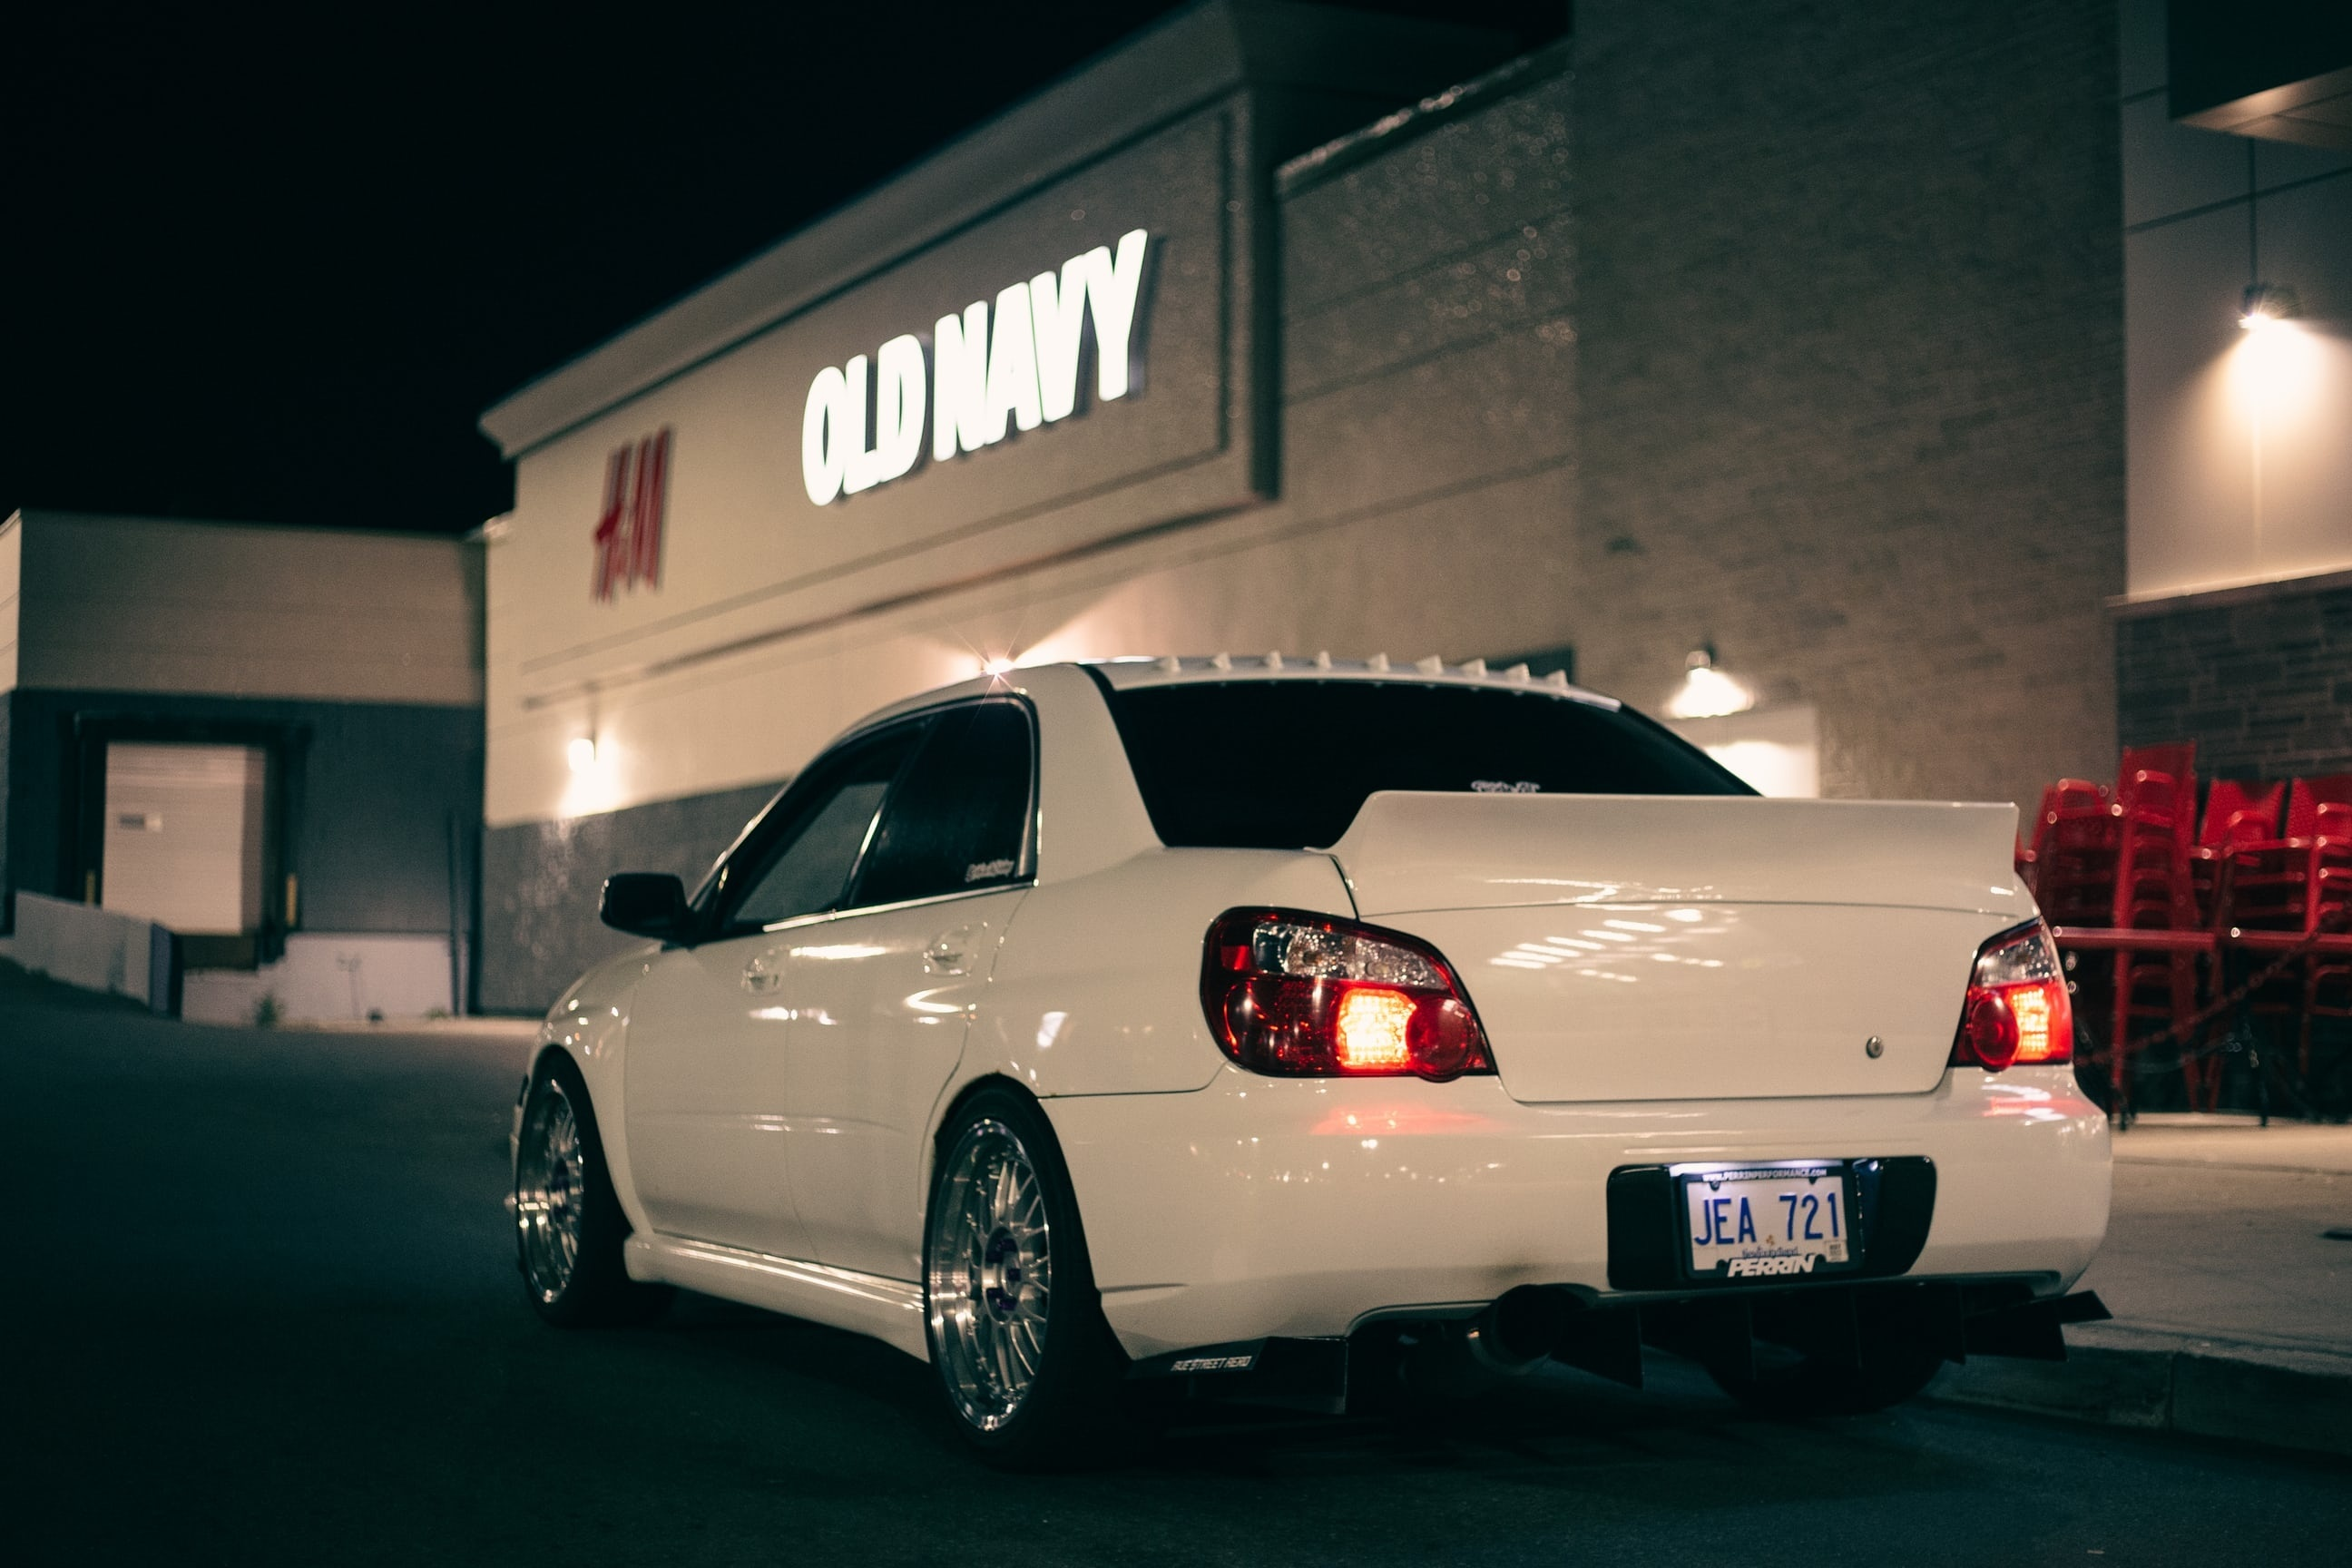plaka: (1680, 1168, 1855, 1272)
